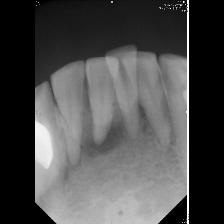apical_lesion: (51, 61, 93, 185), (87, 57, 120, 168)
